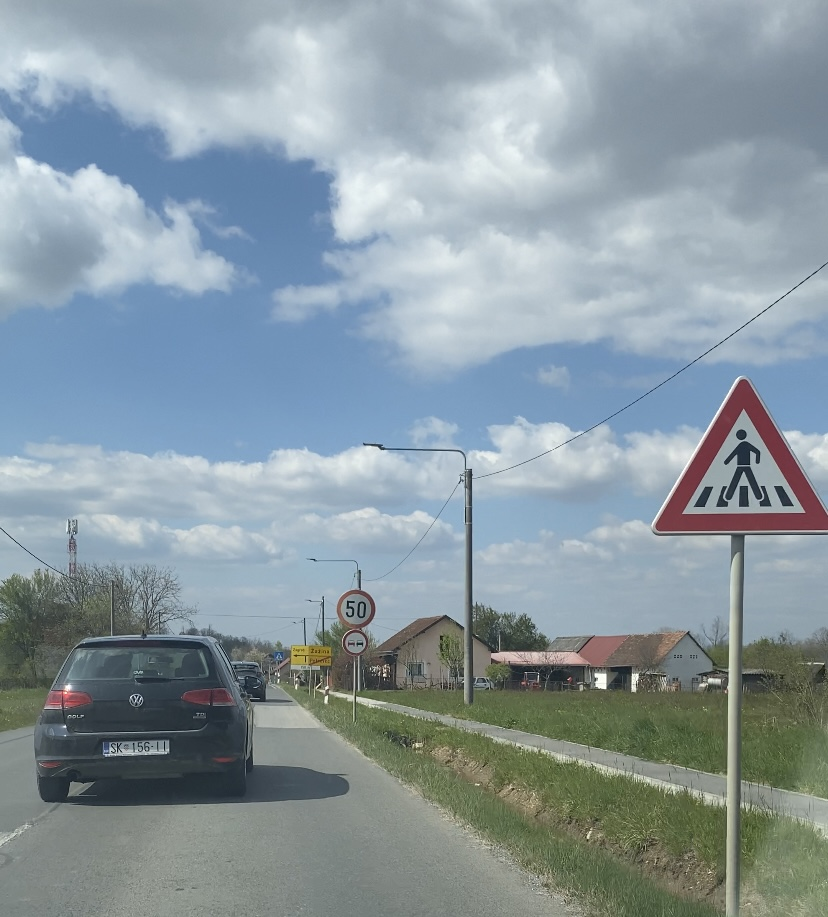Ograničenje brzine 50: (337, 589, 376, 628)
Zabrana pretjecanja: (342, 629, 368, 656)
